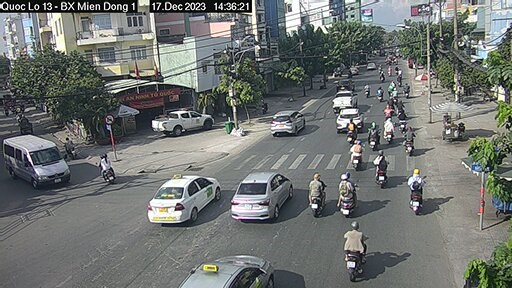car: (6, 134, 67, 197), (186, 248, 278, 288), (226, 170, 286, 218), (149, 175, 211, 221), (157, 110, 224, 140), (270, 110, 310, 139), (334, 107, 365, 129), (333, 89, 358, 109)
motorbike: (340, 223, 372, 269), (336, 168, 356, 217), (372, 155, 395, 196), (306, 174, 329, 214), (406, 174, 427, 214), (398, 125, 419, 156), (344, 117, 360, 142), (367, 125, 382, 151), (353, 141, 368, 166), (380, 117, 394, 143)
